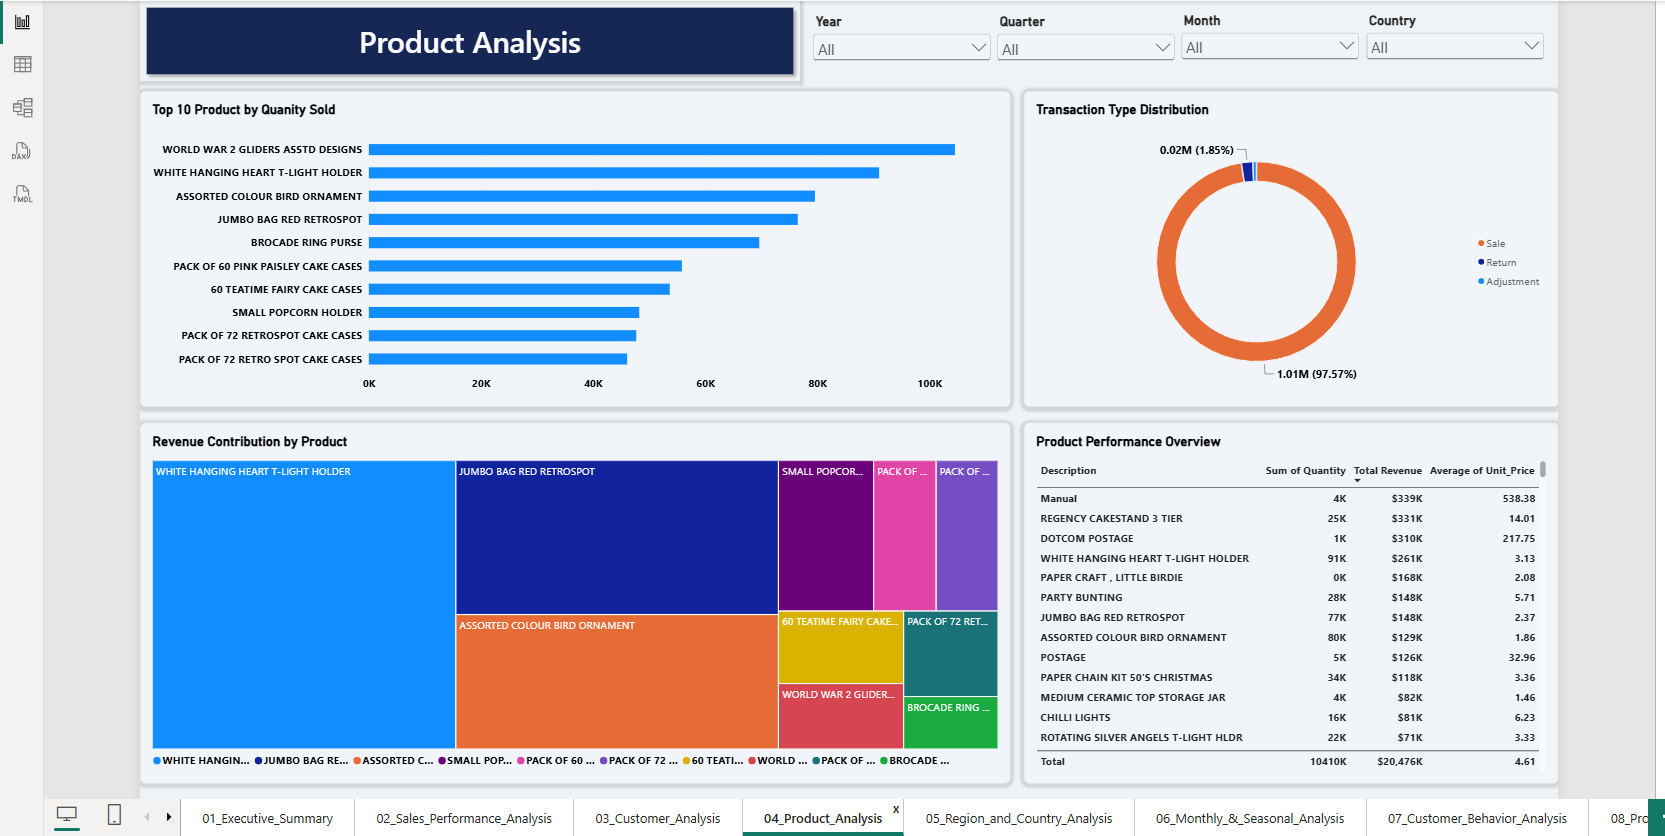

What the dashboard file says about the page in this screenshot:
{"tool":"powerbi","page":{"name":"04_Product_Analysis","canvas":[1920,1080],"ordinal":3},"visuals":[{"type":"shape","box":[0,0,893.5,108.1],"z":0},{"type":"slicer","fields":{"Values":["Date.Quarter"]},"box":[1156.3,18,249.7,74.3],"z":1000},{"type":"slicer","fields":{"Values":["Date.Year"]},"box":[907.2,17.4,249.7,74.3],"z":2000},{"type":"slicer","fields":{"Values":["Sales.Country"]},"box":[1656.3,15.8,249.7,74.3],"z":3000},{"type":"slicer","fields":{"Values":["Date.Month"]},"box":[1405.6,16.5,249.7,74.3],"z":4000},{"type":"clusteredBarChart","title":"Top 10 Product by Quanity Sold","fields":{"Category":["Sales.Description"],"Y":["Sum(Sales.Quantity)"]},"box":[0,122.3,1178.9,428],"z":5000},{"type":"tableEx","title":"Product Performance Overview","fields":{"Values":["Sales.Description","Sum(Sales.Quantity)","KPI Measures.Total Revenue","Avg(Sales.Unit_Price)"]},"box":[1196.1,570.6,724.3,489.1],"z":6000},{"type":"treemap","title":"Revenue Contribution by Product","fields":{"Group":["Sales.Description"],"Values":["KPI Measures.Total Revenue"]},"box":[0,570.6,1178.9,489.1],"z":7000},{"type":"donutChart","title":"Transaction Type Distribution","fields":{"Category":["Sales.Transaction_Type"],"Y":["CountNonNull(Sales.Transaction_Type)"]},"box":[1196.1,122.3,724.3,428],"z":8000}]}

Visuals, with their boxes on the page's 1920x1080 design canvas (x1, y1, x2, y2). These are canvas units, not pixel positions in the 1665x836 screenshot, which may show the page scaled, cropped or inside an application window:
shape: BBox(0, 0, 894, 108)
slicer - Date.Quarter: BBox(1156, 18, 1406, 92)
slicer - Date.Year: BBox(907, 17, 1157, 92)
slicer - Sales.Country: BBox(1656, 16, 1906, 90)
slicer - Date.Month: BBox(1406, 16, 1655, 91)
"Top 10 Product by Quanity Sold" clusteredBarChart: BBox(0, 122, 1179, 550)
"Product Performance Overview" tableEx: BBox(1196, 571, 1920, 1060)
"Revenue Contribution by Product" treemap: BBox(0, 571, 1179, 1060)
"Transaction Type Distribution" donutChart: BBox(1196, 122, 1920, 550)
